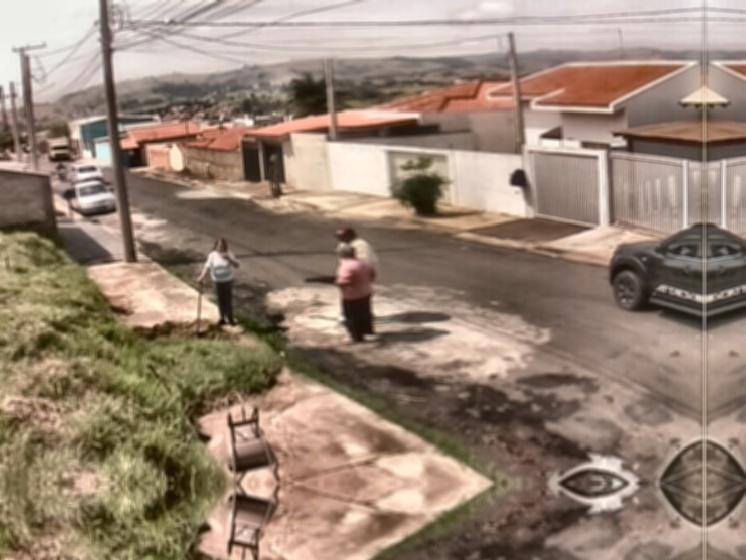person: (304, 245, 375, 342), (196, 237, 241, 328), (335, 227, 371, 259)
